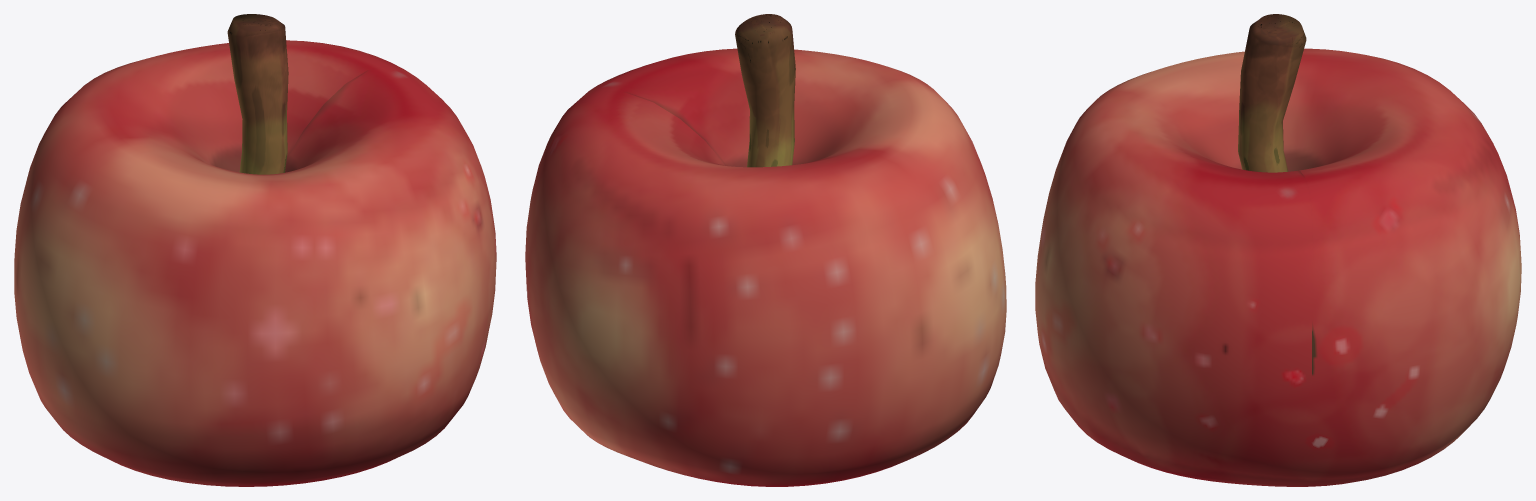
Rendered from apple.glb.
3 views of the same model, side by side, from view 1: azimuth 30°, elevation 25°; view 2: azimuth 150°, elevation 25°; view 3: azimuth 270°, elevation 25° (orthographic).
Visible parts, largest first — view 1: apple, top stem; view 2: apple, top stem; view 3: apple, top stem.
Part boxes in pixels (x1,y1,x2,y2): apple: [14, 40, 496, 486]; top stem: [227, 14, 288, 174]; apple: [525, 48, 1006, 486]; top stem: [735, 14, 795, 167]; apple: [1035, 48, 1521, 486]; top stem: [1238, 14, 1306, 172].
Bounding box in the file's own units: 20.04 × 17.91 × 19.92.
Materials: 1 (1 with a texture image).
